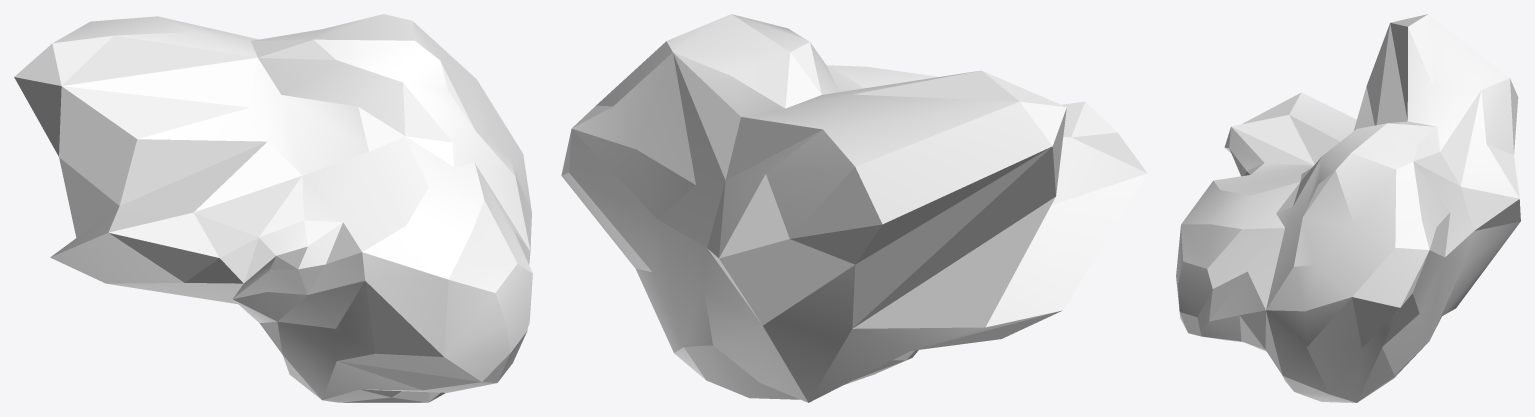
File: ground.rock7.glb
3 renders of one model, left to right at view 1: azimuth 30°, elevation 25°; view 2: azimuth 150°, elevation 25°; view 3: azimuth 270°, elevation 25°, orthographic. The views are drawn at different scales.
Visible parts, largest first — view 1: rock7; view 2: rock7; view 3: rock7.
Part boxes in pixels (left/top/right/bottom): rock7: left=14, top=14, right=532, bottom=402; rock7: left=561, top=14, right=1147, bottom=402; rock7: left=1176, top=14, right=1520, bottom=402.
Size of the model in its own units: 1.36 by 1.07 by 1.18.
Materials: 1 (1 with a texture image).
